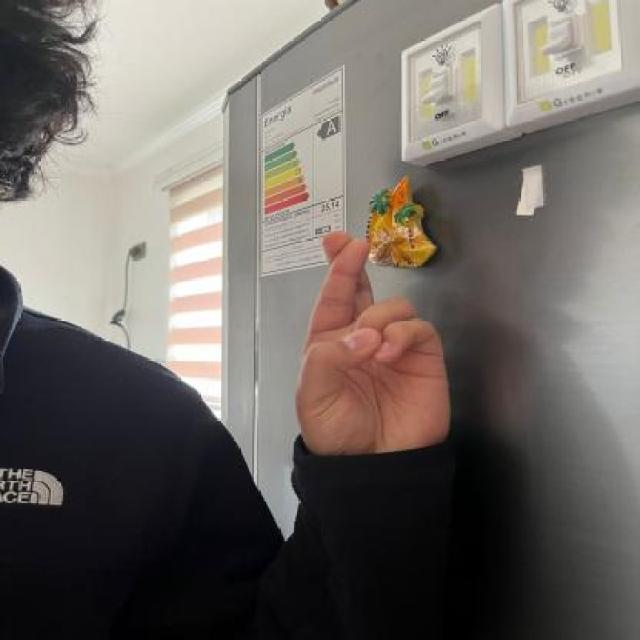R: (286, 228, 459, 460)
